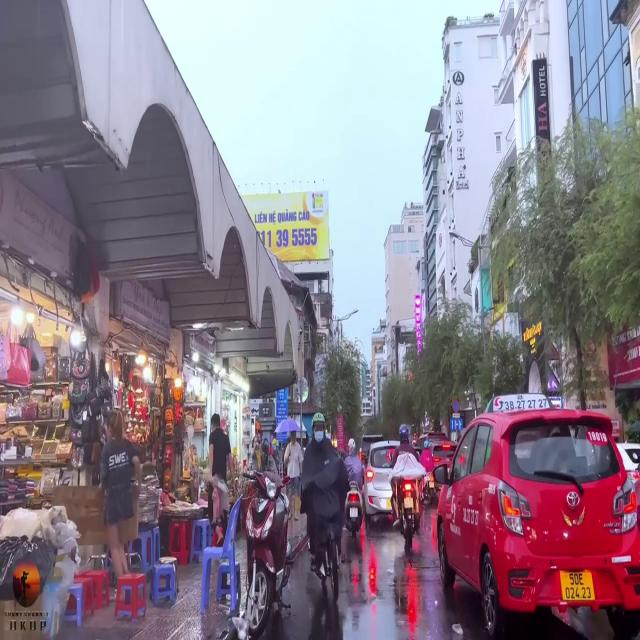bien_vang: (559, 564, 599, 611)
